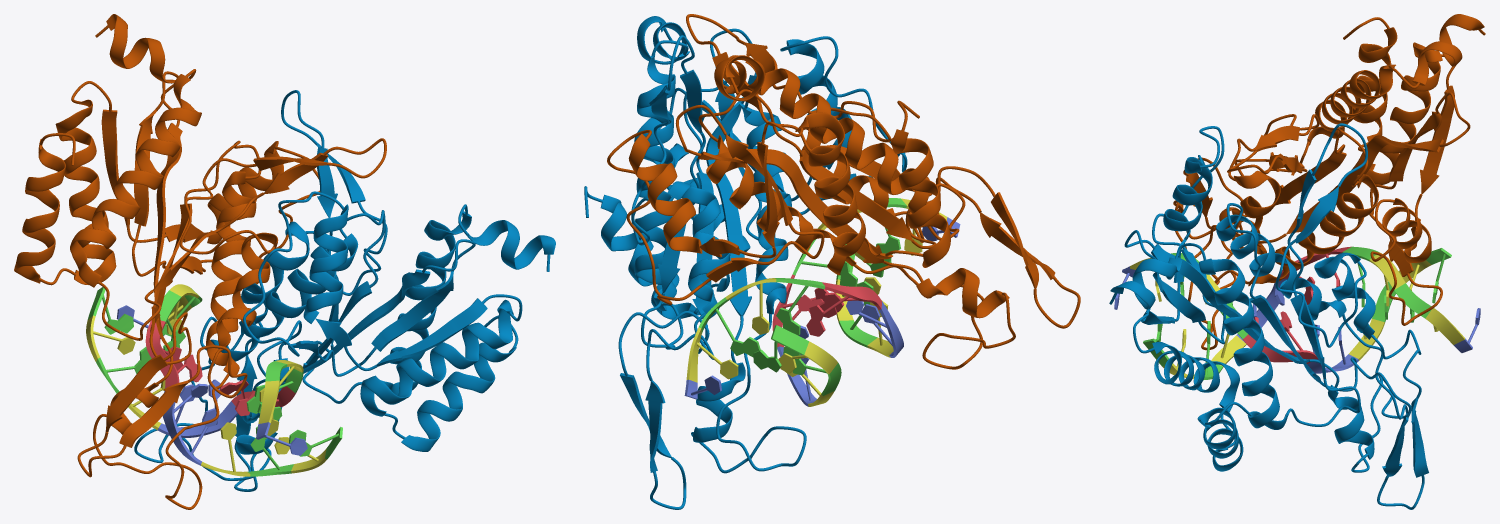
File: 1ERI.glb
3 views of the same model, side by side, from view 1: azimuth 30°, elevation 25°; view 2: azimuth 150°, elevation 25°; view 3: azimuth 270°, elevation 25° (orthographic). The views are drawn at different scales.
Bounding box in the file's own units: 71.98 × 72.47 × 54.82.
